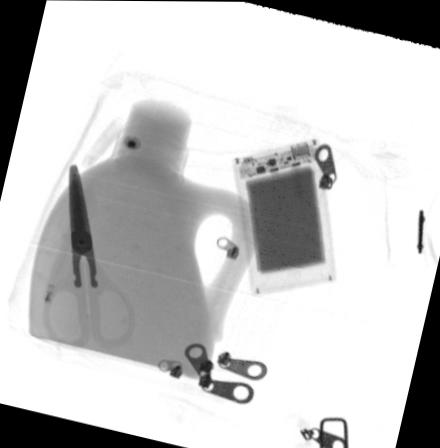Powerbank: (230, 139, 337, 299)
Scissors: (41, 162, 135, 351)
